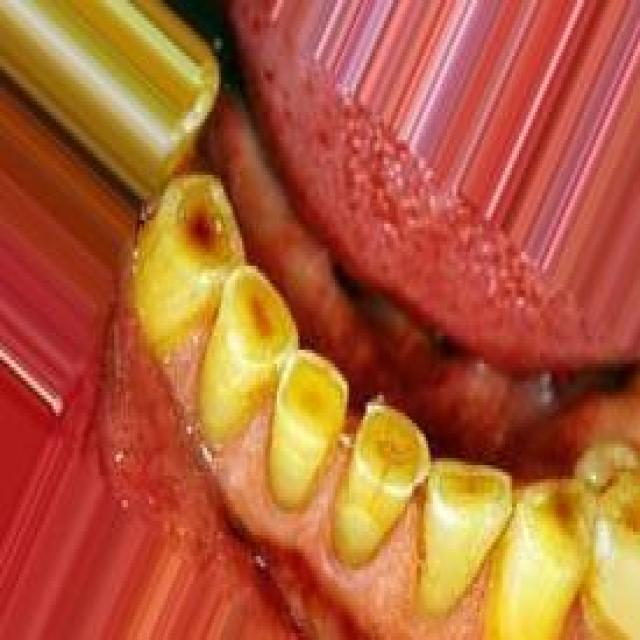caries: (163, 164, 240, 278), (269, 342, 349, 441), (345, 400, 424, 500), (420, 448, 512, 526), (518, 475, 589, 571), (223, 259, 288, 362), (589, 440, 640, 562)
